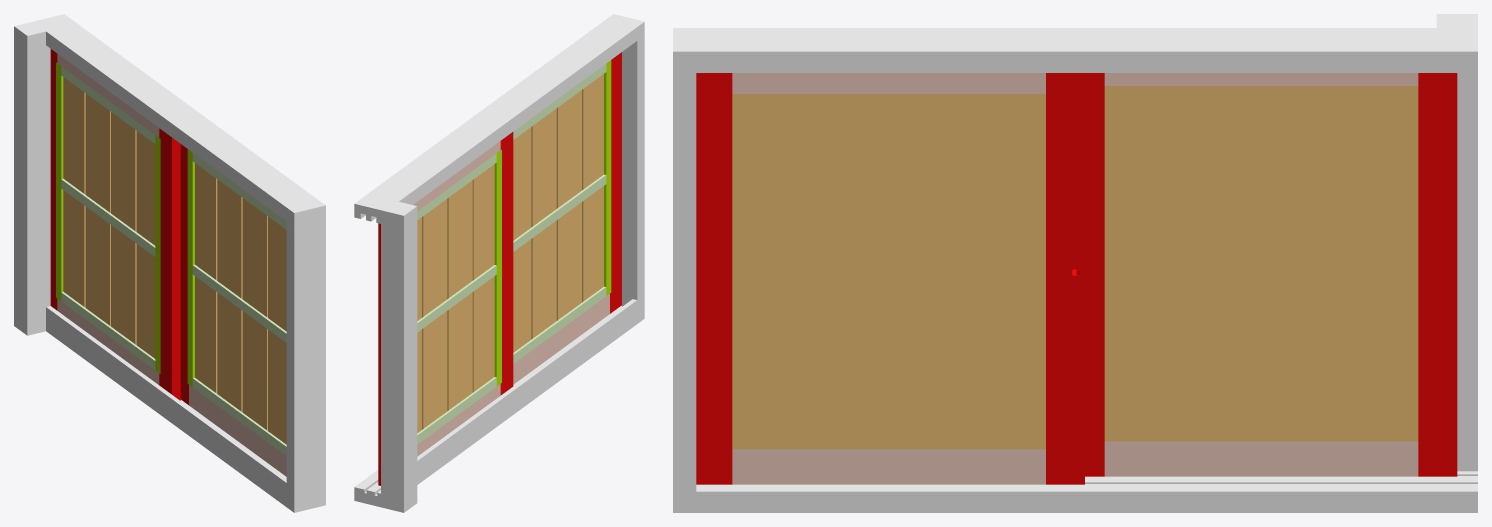
File: wood_door.glb
The picture shows the model from 3 angles, left to right: view 1: azimuth 30°, elevation 25°; view 2: azimuth 150°, elevation 25°; view 3: azimuth 270°, elevation 25°; orthographic projection. The views are drawn at different scales.
Visible parts, largest first — view 1: 7_上枠, 9_1柱, 9_2縦枠, 8_下枠, 建具2_タテ框1, 建具2_カガミ板3, 建具1_カガミ板3, 建具2_カガミ板2, 建具1_カガミ板2, 建具2_カガミ板4, 建具1_カガミ板4, 建具2_カガミ板1 (+12 smaller); view 2: 7_上枠, 9_1柱, 8_下枠, 9_2縦枠, 建具1_カガミ板3, 建具1_カガミ板2, 建具2_カガミ板2, 建具2_カガミ板3, 建具2_カガミ板1, 建具1_カガミ板1, 建具1_カガミ板4, 建具2_タテ框1 (+12 smaller); view 3: 7_上枠, 建具1_カガミ板1, 建具1_カガミ板3, 建具2_カガミ板3, 建具1_カガミ板2, 建具1_カガミ板4, 建具2_カガミ板1, 建具2_カガミ板2, 建具2_カガミ板4, 8_下枠, 建具2_タテ框2, 建具1_タテ框2 (+8 smaller).
Part boxes in pixels (x1,y1,x2,y2): 7_上枠: (37, 14, 325, 226); 9_1柱: (14, 20, 50, 335); 9_2縦枠: (286, 219, 325, 498); 8_下枠: (46, 306, 325, 512); 建具2_タテ框1: (159, 128, 180, 400); 建具2_カガミ板3: (85, 93, 110, 326); 建具1_カガミ板3: (217, 179, 242, 412); 建具2_カガミ板2: (111, 112, 136, 344); 建具1_カガミ板2: (242, 198, 267, 430); 建具2_カガミ板4: (63, 77, 85, 307); 建具1_カガミ板4: (195, 163, 217, 393); 建具2_カガミ板1: (136, 131, 155, 358); 7_上枠: (354, 14, 644, 223); 9_1柱: (381, 200, 417, 512); 8_下枠: (354, 299, 644, 507); 9_2縦枠: (622, 35, 644, 309); 建具1_カガミ板3: (531, 108, 556, 339); 建具1_カガミ板2: (556, 90, 581, 320); 建具2_カガミ板2: (447, 180, 472, 410); 建具2_カガミ板3: (422, 199, 447, 429); 建具2_カガミ板1: (472, 164, 494, 392); 建具1_カガミ板1: (582, 74, 603, 302); 建具1_カガミ板4: (513, 127, 531, 352); 建具2_タテ框1: (500, 132, 513, 395); 7_上枠: (673, 28, 1477, 72); 建具1_カガミ板1: (732, 94, 810, 449); 建具1_カガミ板3: (889, 94, 967, 449); 建具2_カガミ板3: (1261, 86, 1339, 441); 建具1_カガミ板2: (811, 94, 889, 449); 建具1_カガミ板4: (967, 94, 1045, 449); 建具2_カガミ板1: (1104, 86, 1182, 441); 建具2_カガミ板2: (1183, 86, 1261, 441); 建具2_カガミ板4: (1340, 86, 1418, 441); 8_下枠: (673, 471, 1477, 512); 建具2_タテ框2: (1418, 73, 1457, 476); 建具1_タテ框2: (1046, 73, 1084, 484).
Size of the model in its own units: 0.2275 by 1.3 by 2.05.
